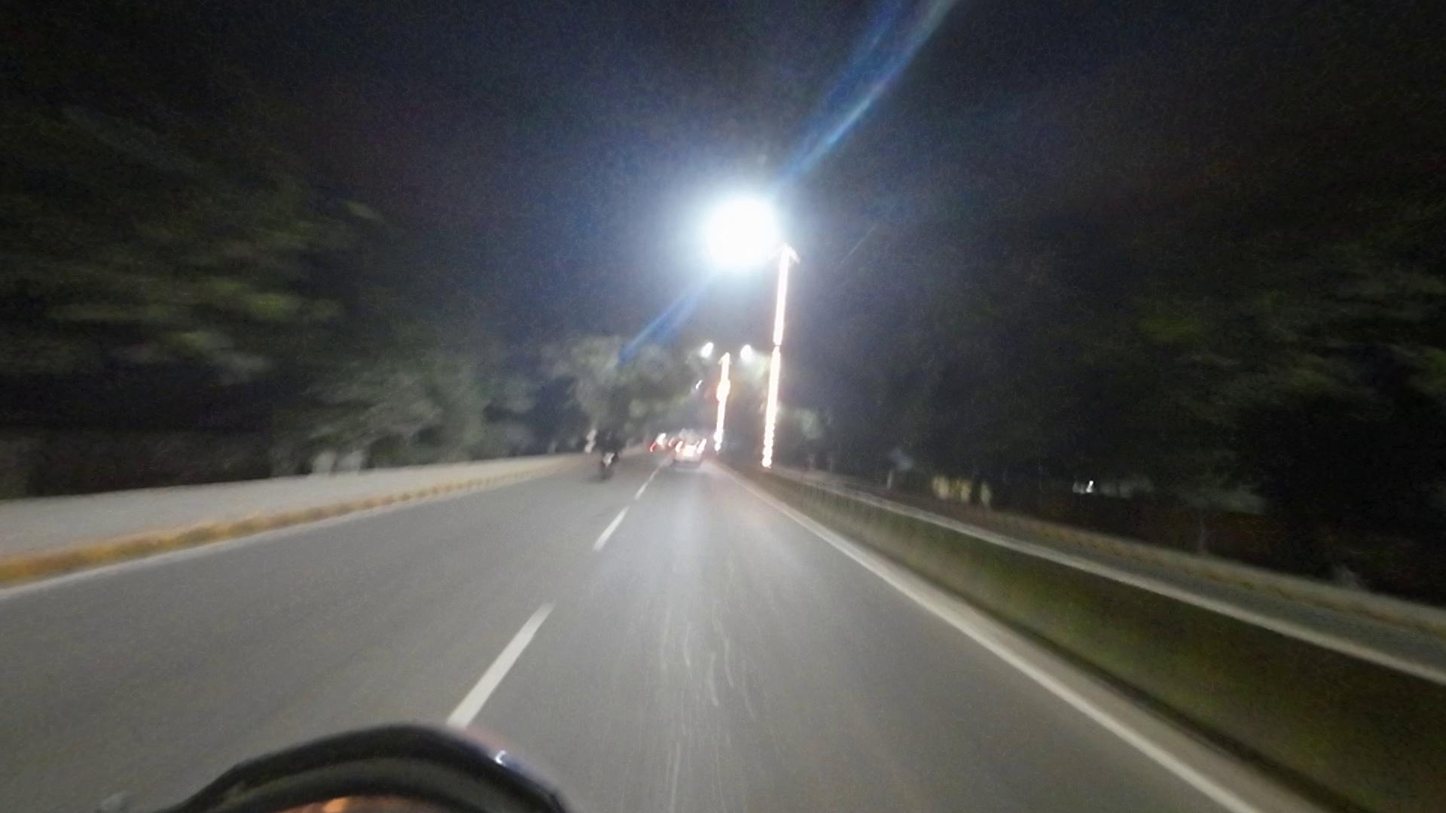streetlight: (797, 230, 839, 255)
